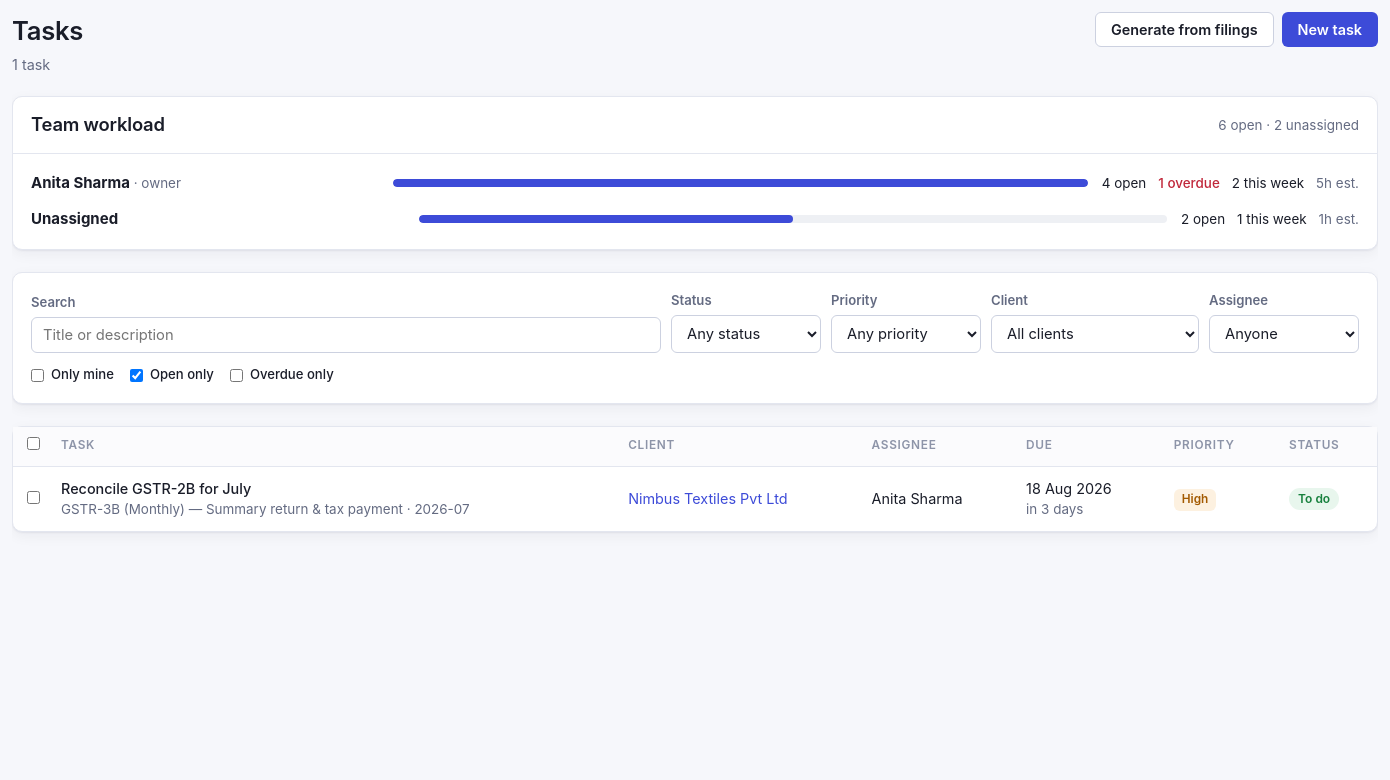
Test: Tasks › bulk-updates the status of selected tasks
The width and height of the screenshot is (1390, 780).
Step 1. Click the checkbox named "Select Reconcile GSTR-2B for July" → (34, 497), box left=27, top=491, right=40, bottom=504
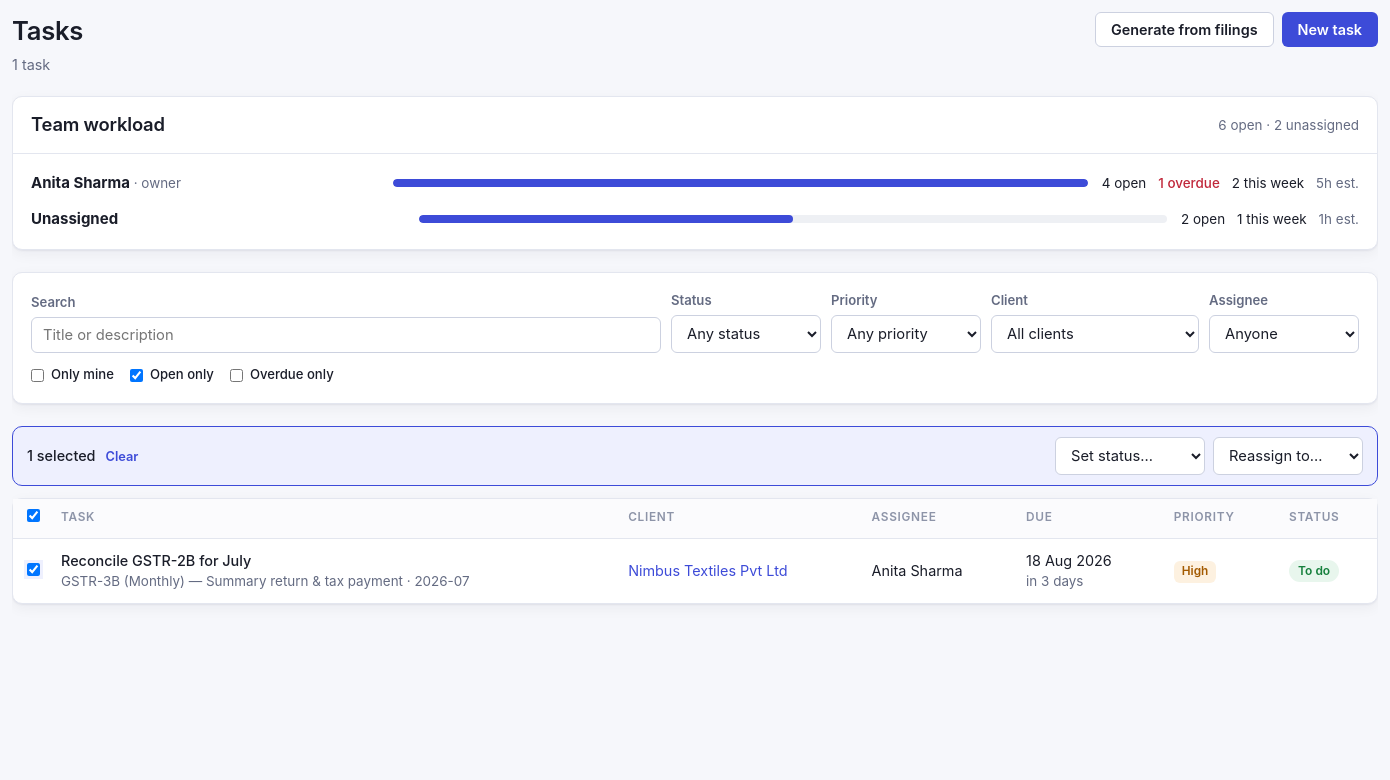
Step 2. Select "Done" in the dropdown named "Set status" → (1130, 456), box left=1055, top=437, right=1205, bottom=475
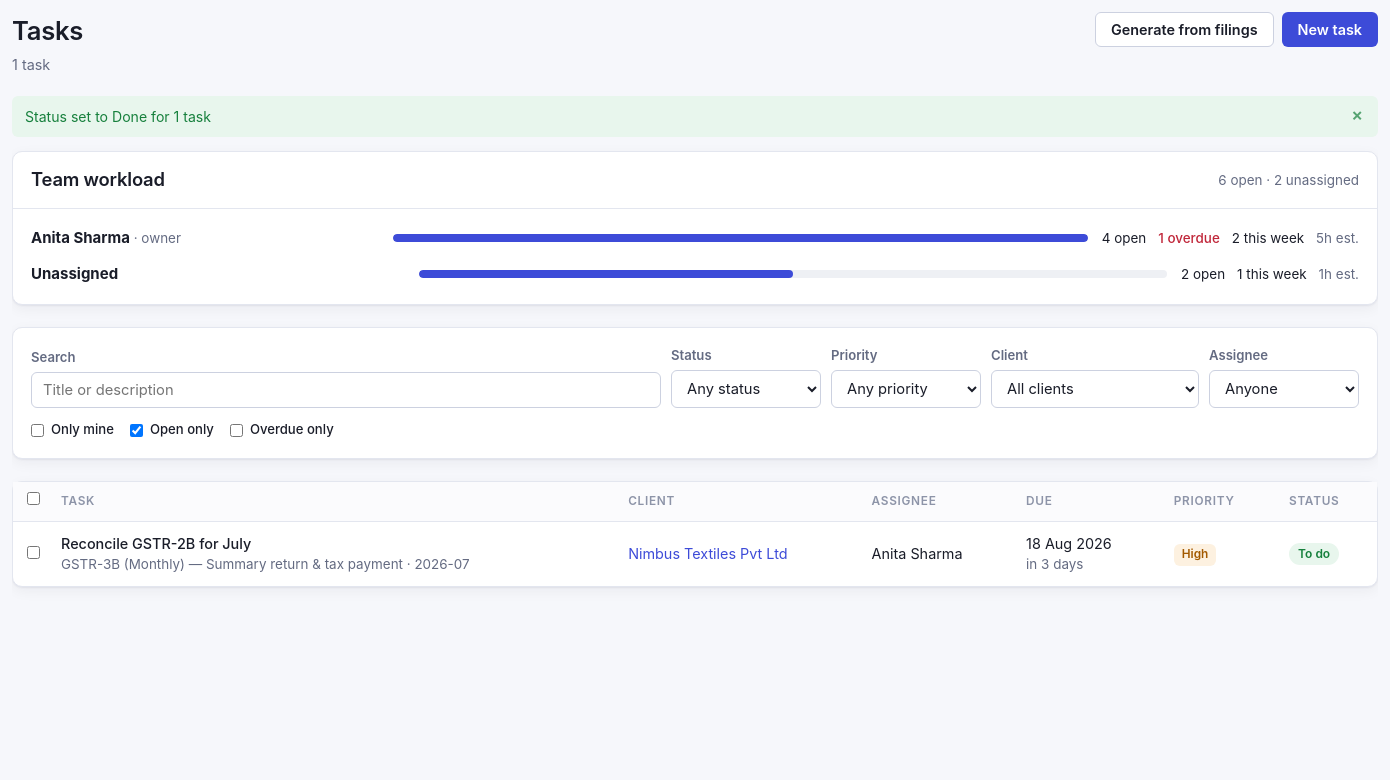
expect the text "Status set to Done for 1 task" is shown: met, box left=25, top=106, right=211, bottom=127
